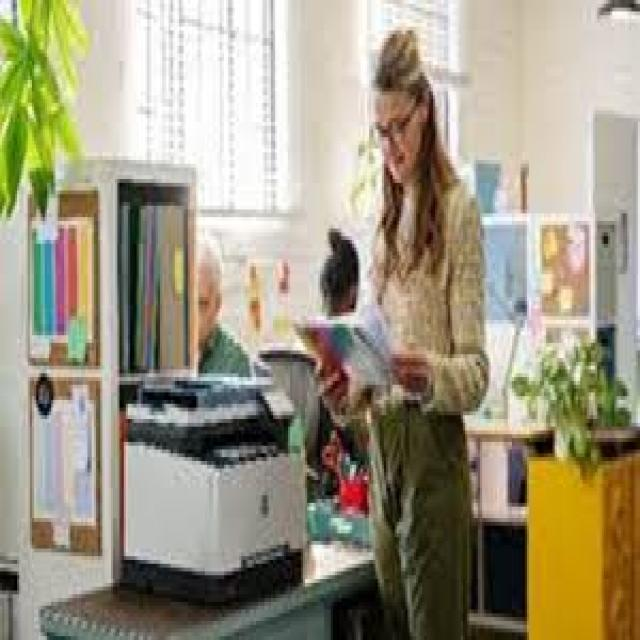printer: (120, 366, 310, 606)
